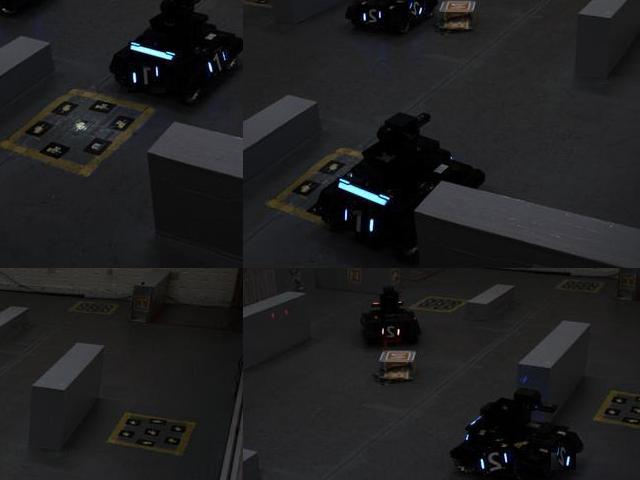armor: (337, 200, 378, 242), (128, 62, 166, 94), (478, 448, 516, 478), (202, 48, 229, 80), (552, 441, 578, 472), (378, 322, 406, 342), (360, 7, 384, 27), (409, 0, 426, 19)
